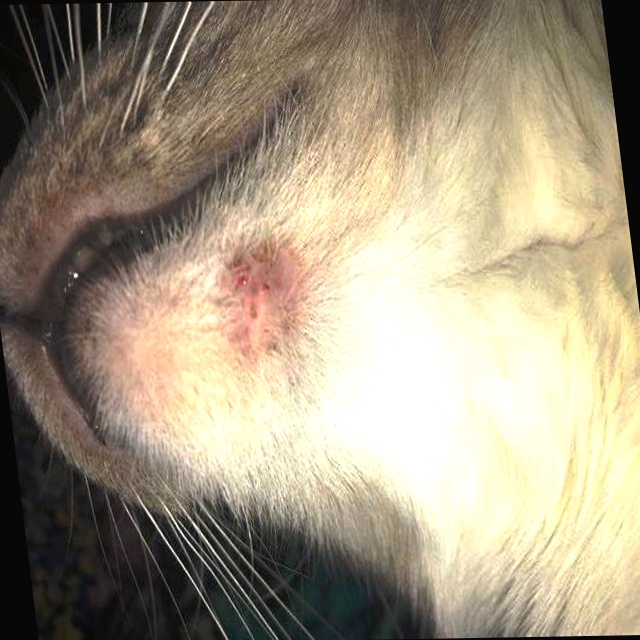acne: (211, 239, 309, 338)
